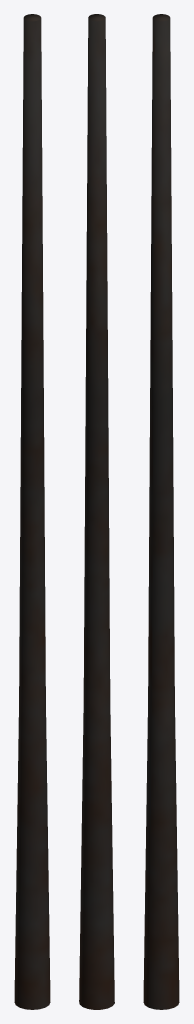
The model's file is masive_flag.dae.
3 renders of one model, left to right at view 1: azimuth 90°, elevation 25°; view 2: azimuth 150°, elevation 25°; view 3: azimuth 270°, elevation 25°, orthographic.
Parts seen in each view (by area): view 1: ZocaloFlag; view 2: ZocaloFlag; view 3: ZocaloFlag.
Boxes of the visible parts, <box> form: ZocaloFlag: <box>14,14,50,1009</box>; ZocaloFlag: <box>79,14,114,1009</box>; ZocaloFlag: <box>143,14,179,1009</box>.
Size of the model in its own units: 1.66 by 1.66 by 50.21.
